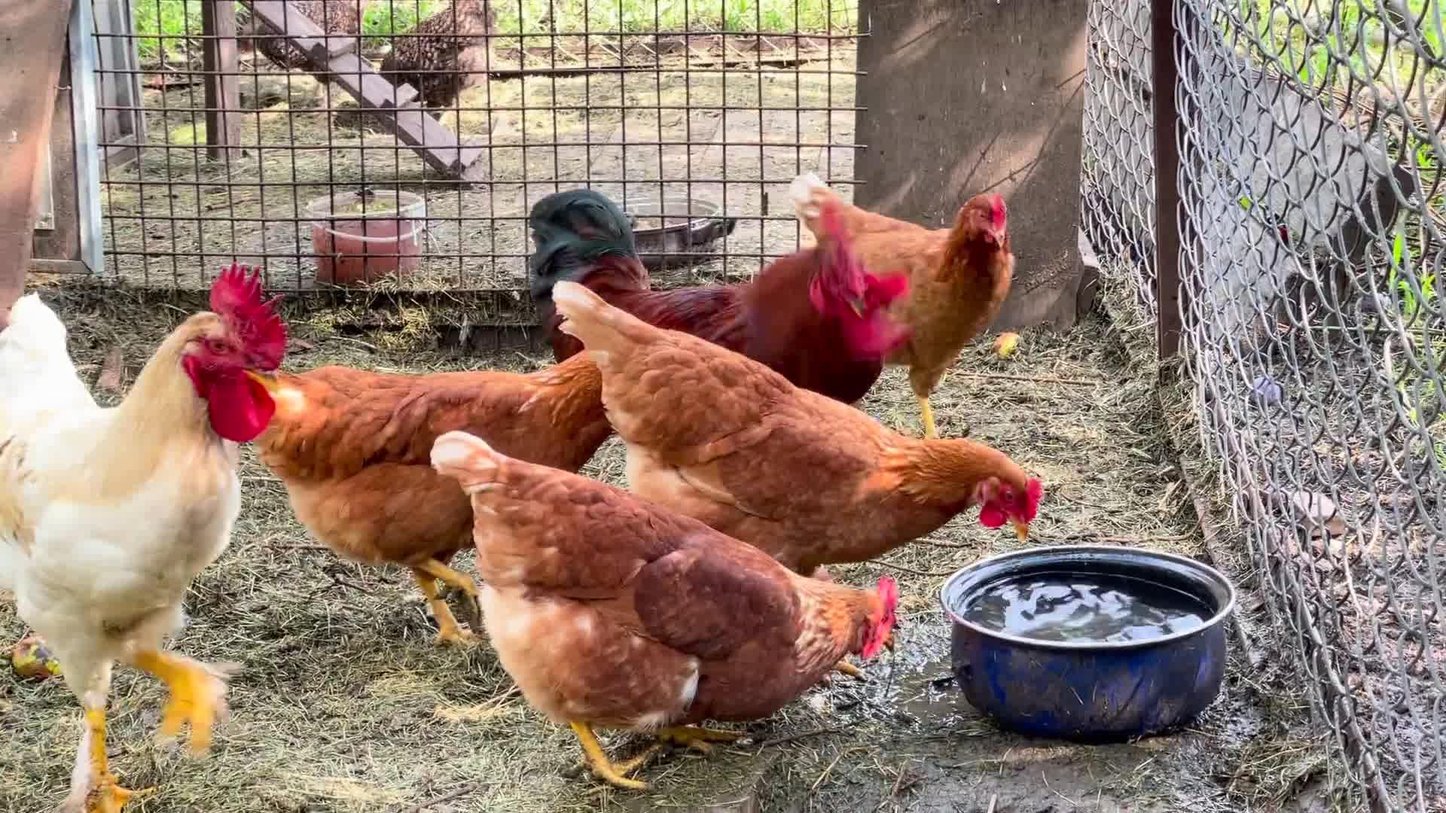Normal: (433, 428, 902, 789), (0, 266, 287, 807), (560, 277, 1040, 568), (290, 358, 600, 639), (793, 157, 1060, 428), (539, 189, 882, 396)
